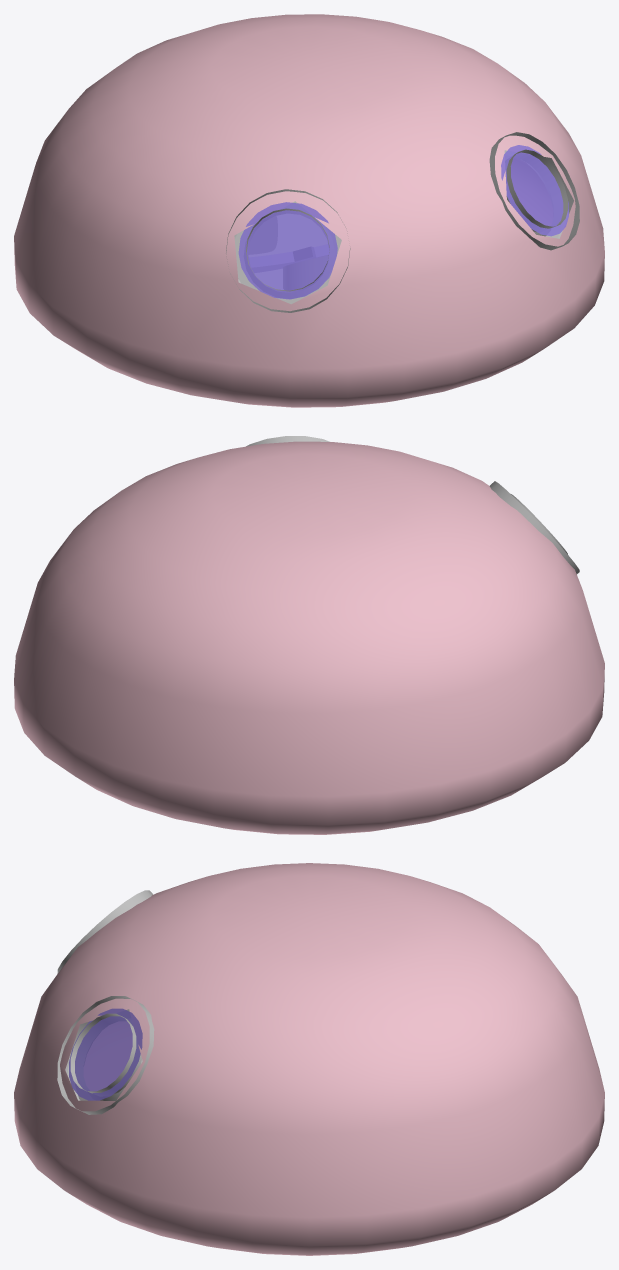
Rendered from InsideShip.fbx.
3 views of the same model, one above another, from view 1: azimuth 30°, elevation 25°; view 2: azimuth 150°, elevation 25°; view 3: azimuth 270°, elevation 25° (orthographic).
Parts seen in each view (by area): view 1: InsideShip; view 2: InsideShip; view 3: InsideShip.
Boxes of the visible parts, left/top/right/bottom form: InsideShip: left=14, top=14, right=604, bottom=407; InsideShip: left=14, top=436, right=604, bottom=834; InsideShip: left=14, top=863, right=604, bottom=1255.
Size of the model in its own units: 342 by 156 by 342.
